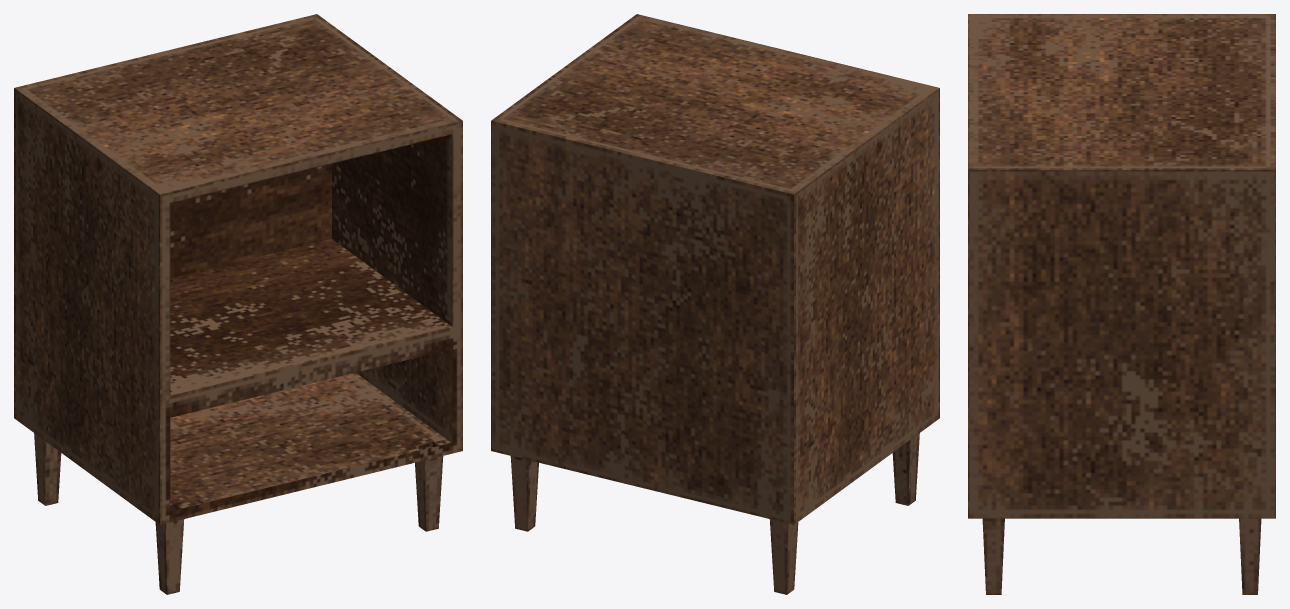
Rendered from NightStand.glb.
3 renders of one model, left to right at view 1: azimuth 30°, elevation 25°; view 2: azimuth 150°, elevation 25°; view 3: azimuth 270°, elevation 25°, orthographic. The views are drawn at different scales.
Visible parts, largest first — view 1: NightStandBase; view 2: NightStandBase; view 3: NightStandBase.
Boxes of the visible parts, left/top/right/bottom form: NightStandBase: left=14, top=14, right=462, bottom=594; NightStandBase: left=491, top=14, right=939, bottom=594; NightStandBase: left=968, top=14, right=1275, bottom=594.
Size of the model in its own units: 0.4172 by 0.5399 by 0.3477.
Materials: 1 (1 with a texture image).
